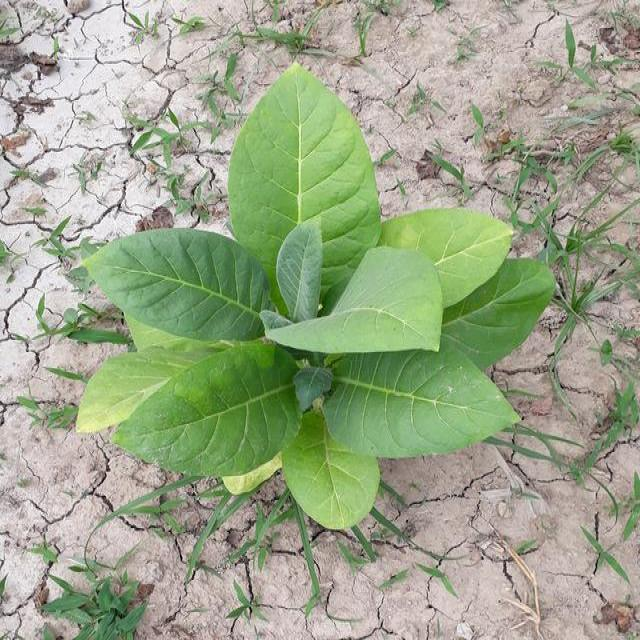crop: (78, 65, 558, 532)
